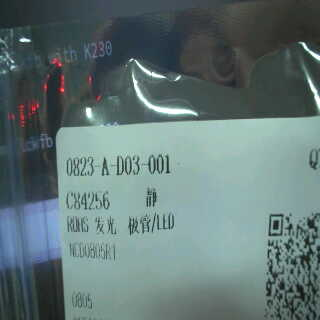LED: (86, 208, 182, 238)
